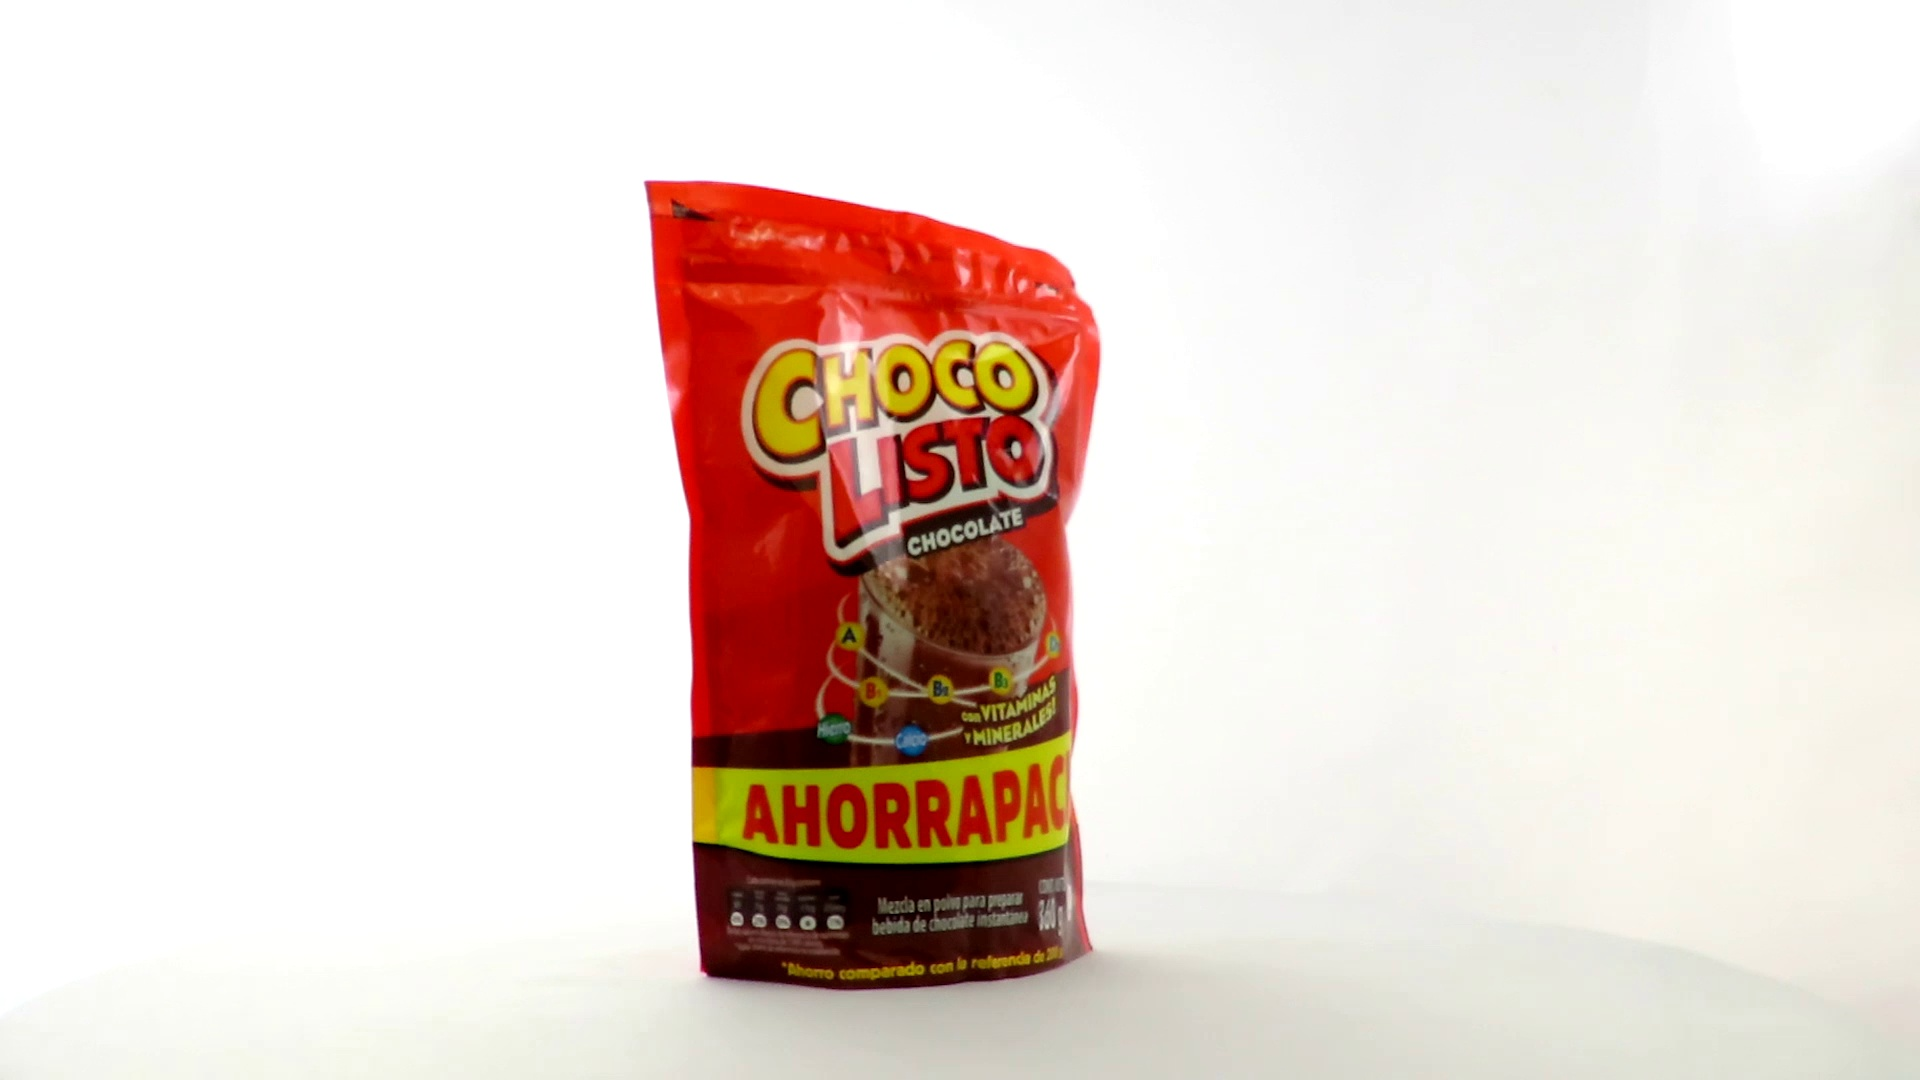COL0170103DYP36000: (640, 175, 1106, 997)
